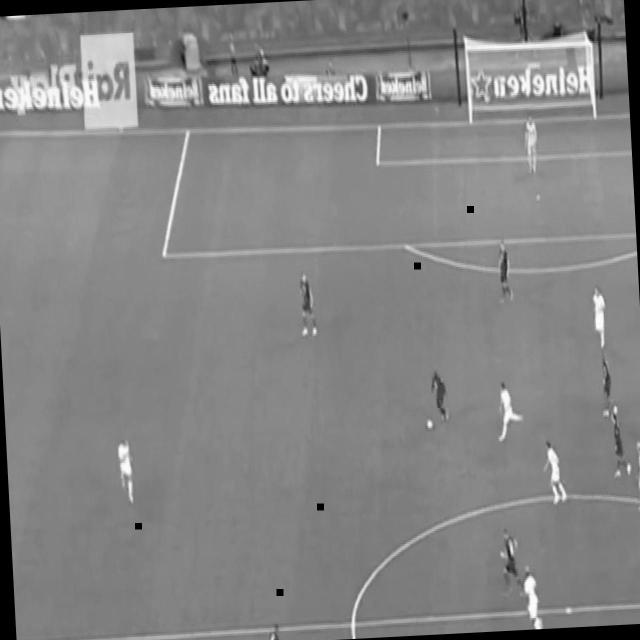ball: (423, 414, 435, 434)
player-white: (493, 522, 528, 606), (492, 376, 526, 448), (607, 404, 635, 484), (541, 435, 570, 511), (518, 560, 548, 630), (295, 265, 319, 343), (115, 430, 138, 508), (598, 340, 619, 422), (520, 108, 542, 180), (428, 363, 452, 429), (589, 279, 611, 350), (494, 236, 515, 306), (630, 436, 640, 518), (261, 615, 289, 640), (299, 628, 329, 640)
